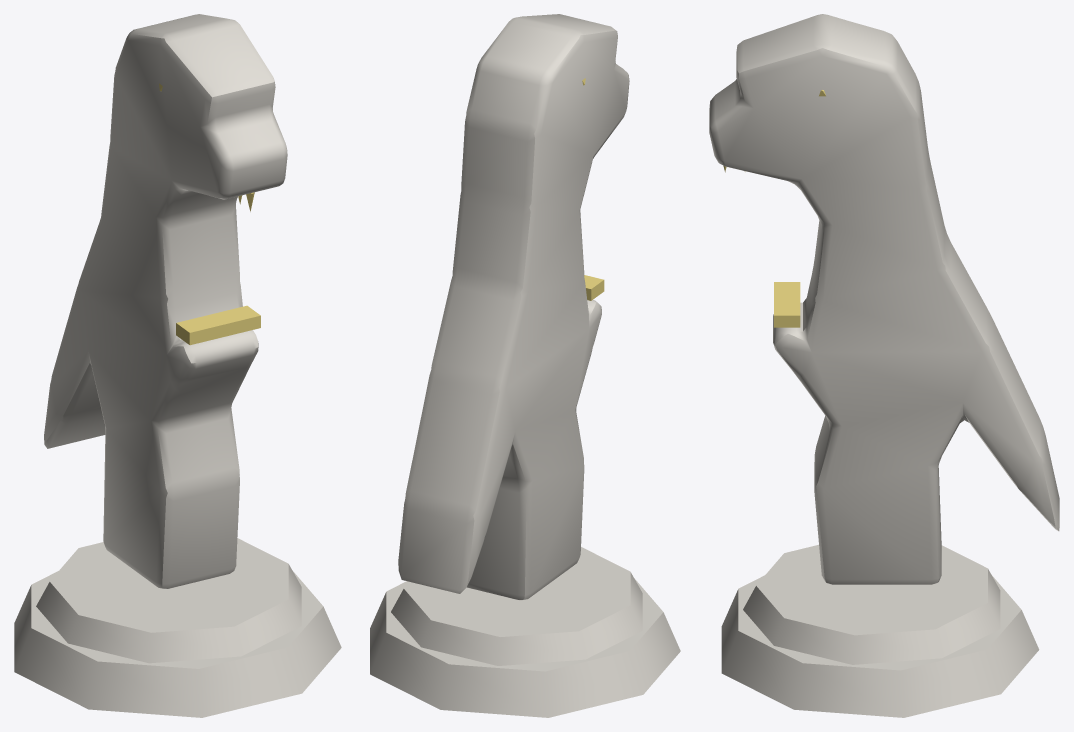
File: HistoriaNatural_Rey.fbx
3 views of the same model, side by side, from view 1: azimuth 30°, elevation 25°; view 2: azimuth 150°, elevation 25°; view 3: azimuth 270°, elevation 25° (orthographic). The views are drawn at different scales.
Parts seen in each view (by area): view 1: HistoriaNatural_Rey; view 2: HistoriaNatural_Rey; view 3: HistoriaNatural_Rey.
Boxes of the visible parts, bbox=[...] form: HistoriaNatural_Rey: bbox=[14, 14, 341, 717]; HistoriaNatural_Rey: bbox=[370, 14, 680, 717]; HistoriaNatural_Rey: bbox=[709, 14, 1059, 717].
Bounding box in the file's own units: 0.7288 × 1.55 × 0.7914.
